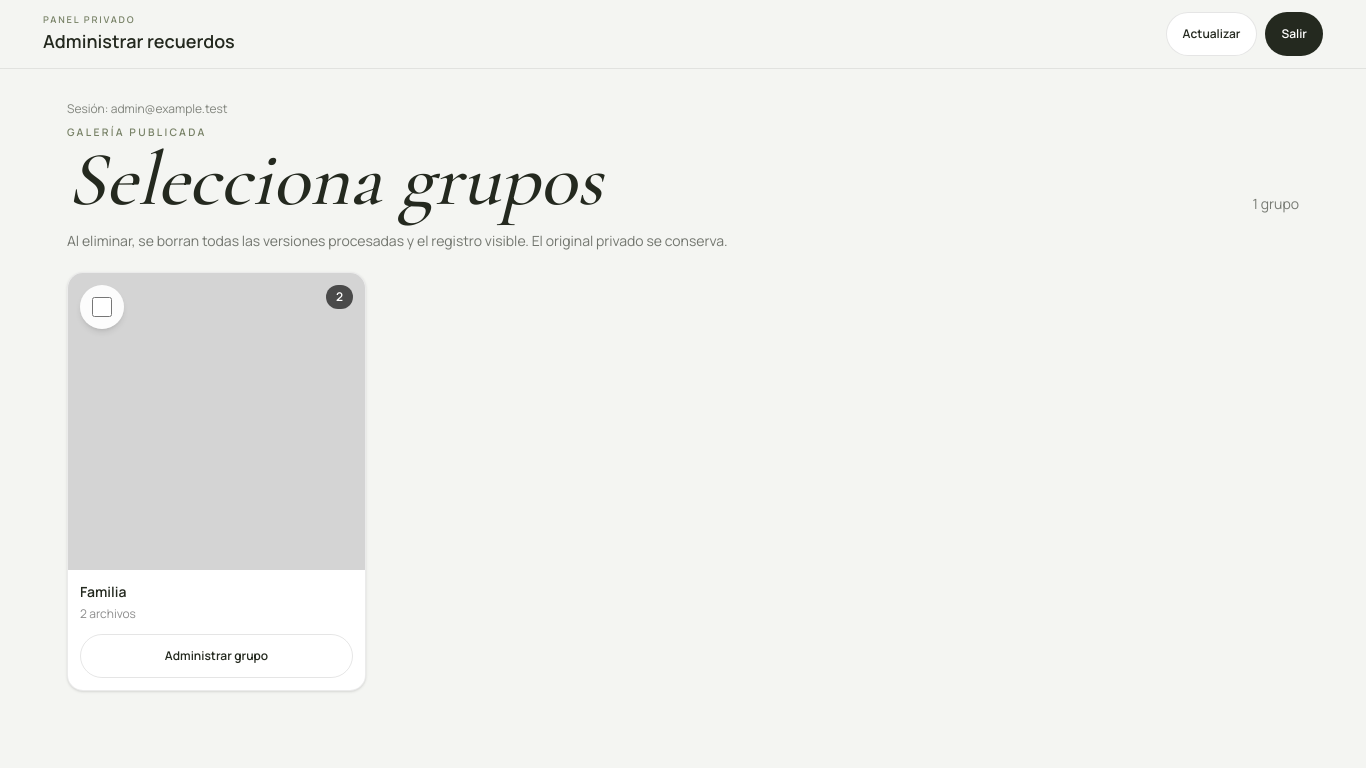
admin gallery › selects and permanently removes an entire visible group
This screenshot has width=1366, height=768.
Expected: the button "Administrar grupo" is shown, [80,634,353,678]
Click the checkbox named "Seleccionar Familia" at (102, 308), box [92,298,112,318]
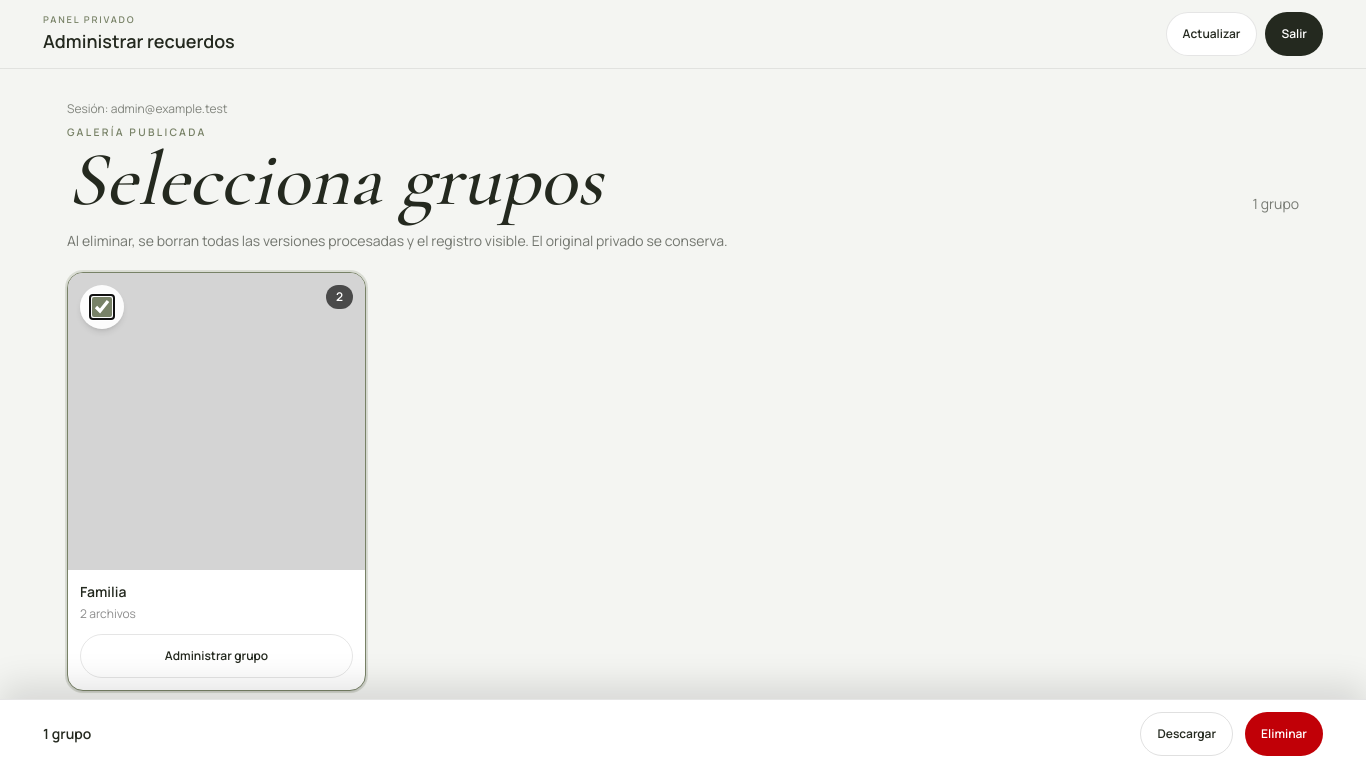
Expected: the text "1 grupo" is shown 2 times, [1252,194,1299,214]; [43,724,91,744]
Click the button "Eliminar" at (1284, 734), box [1245,712,1323,756]
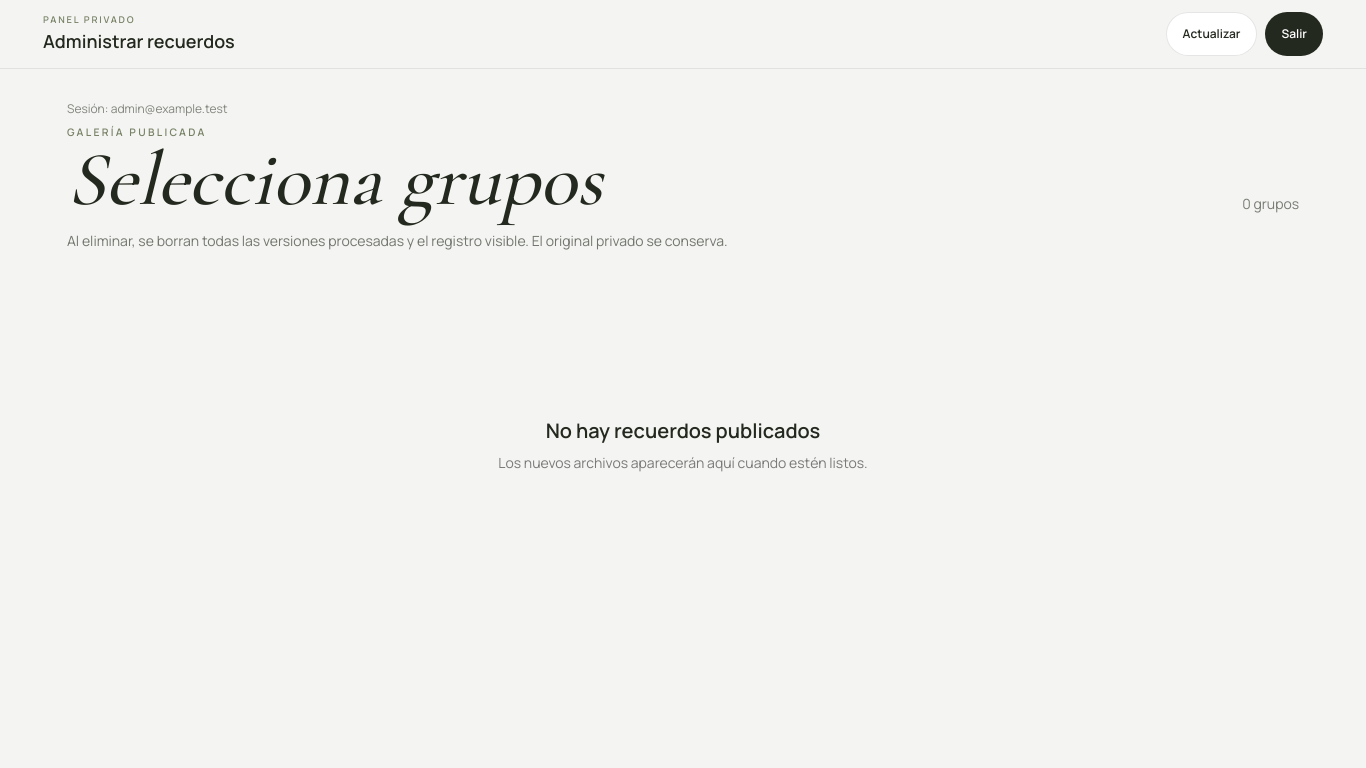
Result: the heading "No hay recuerdos publicados" is shown at [546,417,820,444]
